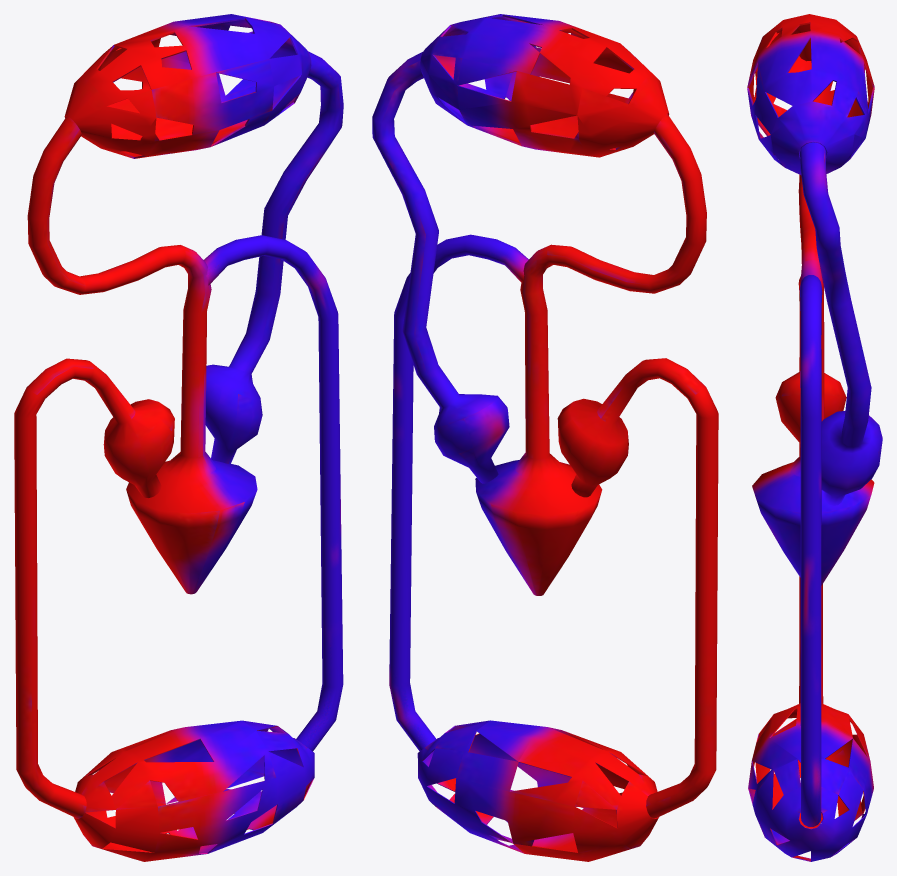
Rendered from tree chambers heart.fbx.
3 renders of one model, left to right at view 1: azimuth 30°, elevation 25°; view 2: azimuth 150°, elevation 25°; view 3: azimuth 270°, elevation 25°, orthographic. The views are drawn at different scales.
Visible parts, largest first — view 1: polySurface5, polySurface4, polySurface6, polySurface7, pCylinder2; view 2: polySurface5, polySurface4, polySurface6, polySurface7, pCylinder2; view 3: polySurface5, polySurface4, polySurface6, pCylinder2, polySurface7.
Boxes of the visible parts, x1,y1,x2,y2 form: polySurface5: (27, 51, 343, 594); polySurface4: (64, 14, 311, 158); polySurface6: (73, 720, 314, 861); polySurface7: (14, 358, 174, 818); pCylinder2: (204, 235, 343, 751); polySurface5: (372, 52, 706, 595); polySurface4: (420, 14, 669, 157); polySurface6: (417, 720, 658, 861); polySurface7: (557, 358, 718, 818); pCylinder2: (389, 234, 528, 751); polySurface5: (752, 38, 882, 585); polySurface4: (747, 14, 874, 174); polySurface6: (748, 703, 873, 861); pCylinder2: (799, 275, 822, 826); polySurface7: (775, 276, 846, 703).
Size of the model in its own units: 4.6 by 10.84 by 1.66.
Materials: 1 (1 with a texture image).
